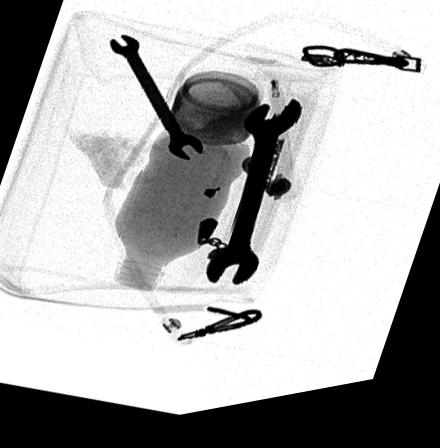Wrench: (203, 107, 303, 295), (108, 38, 204, 170)
